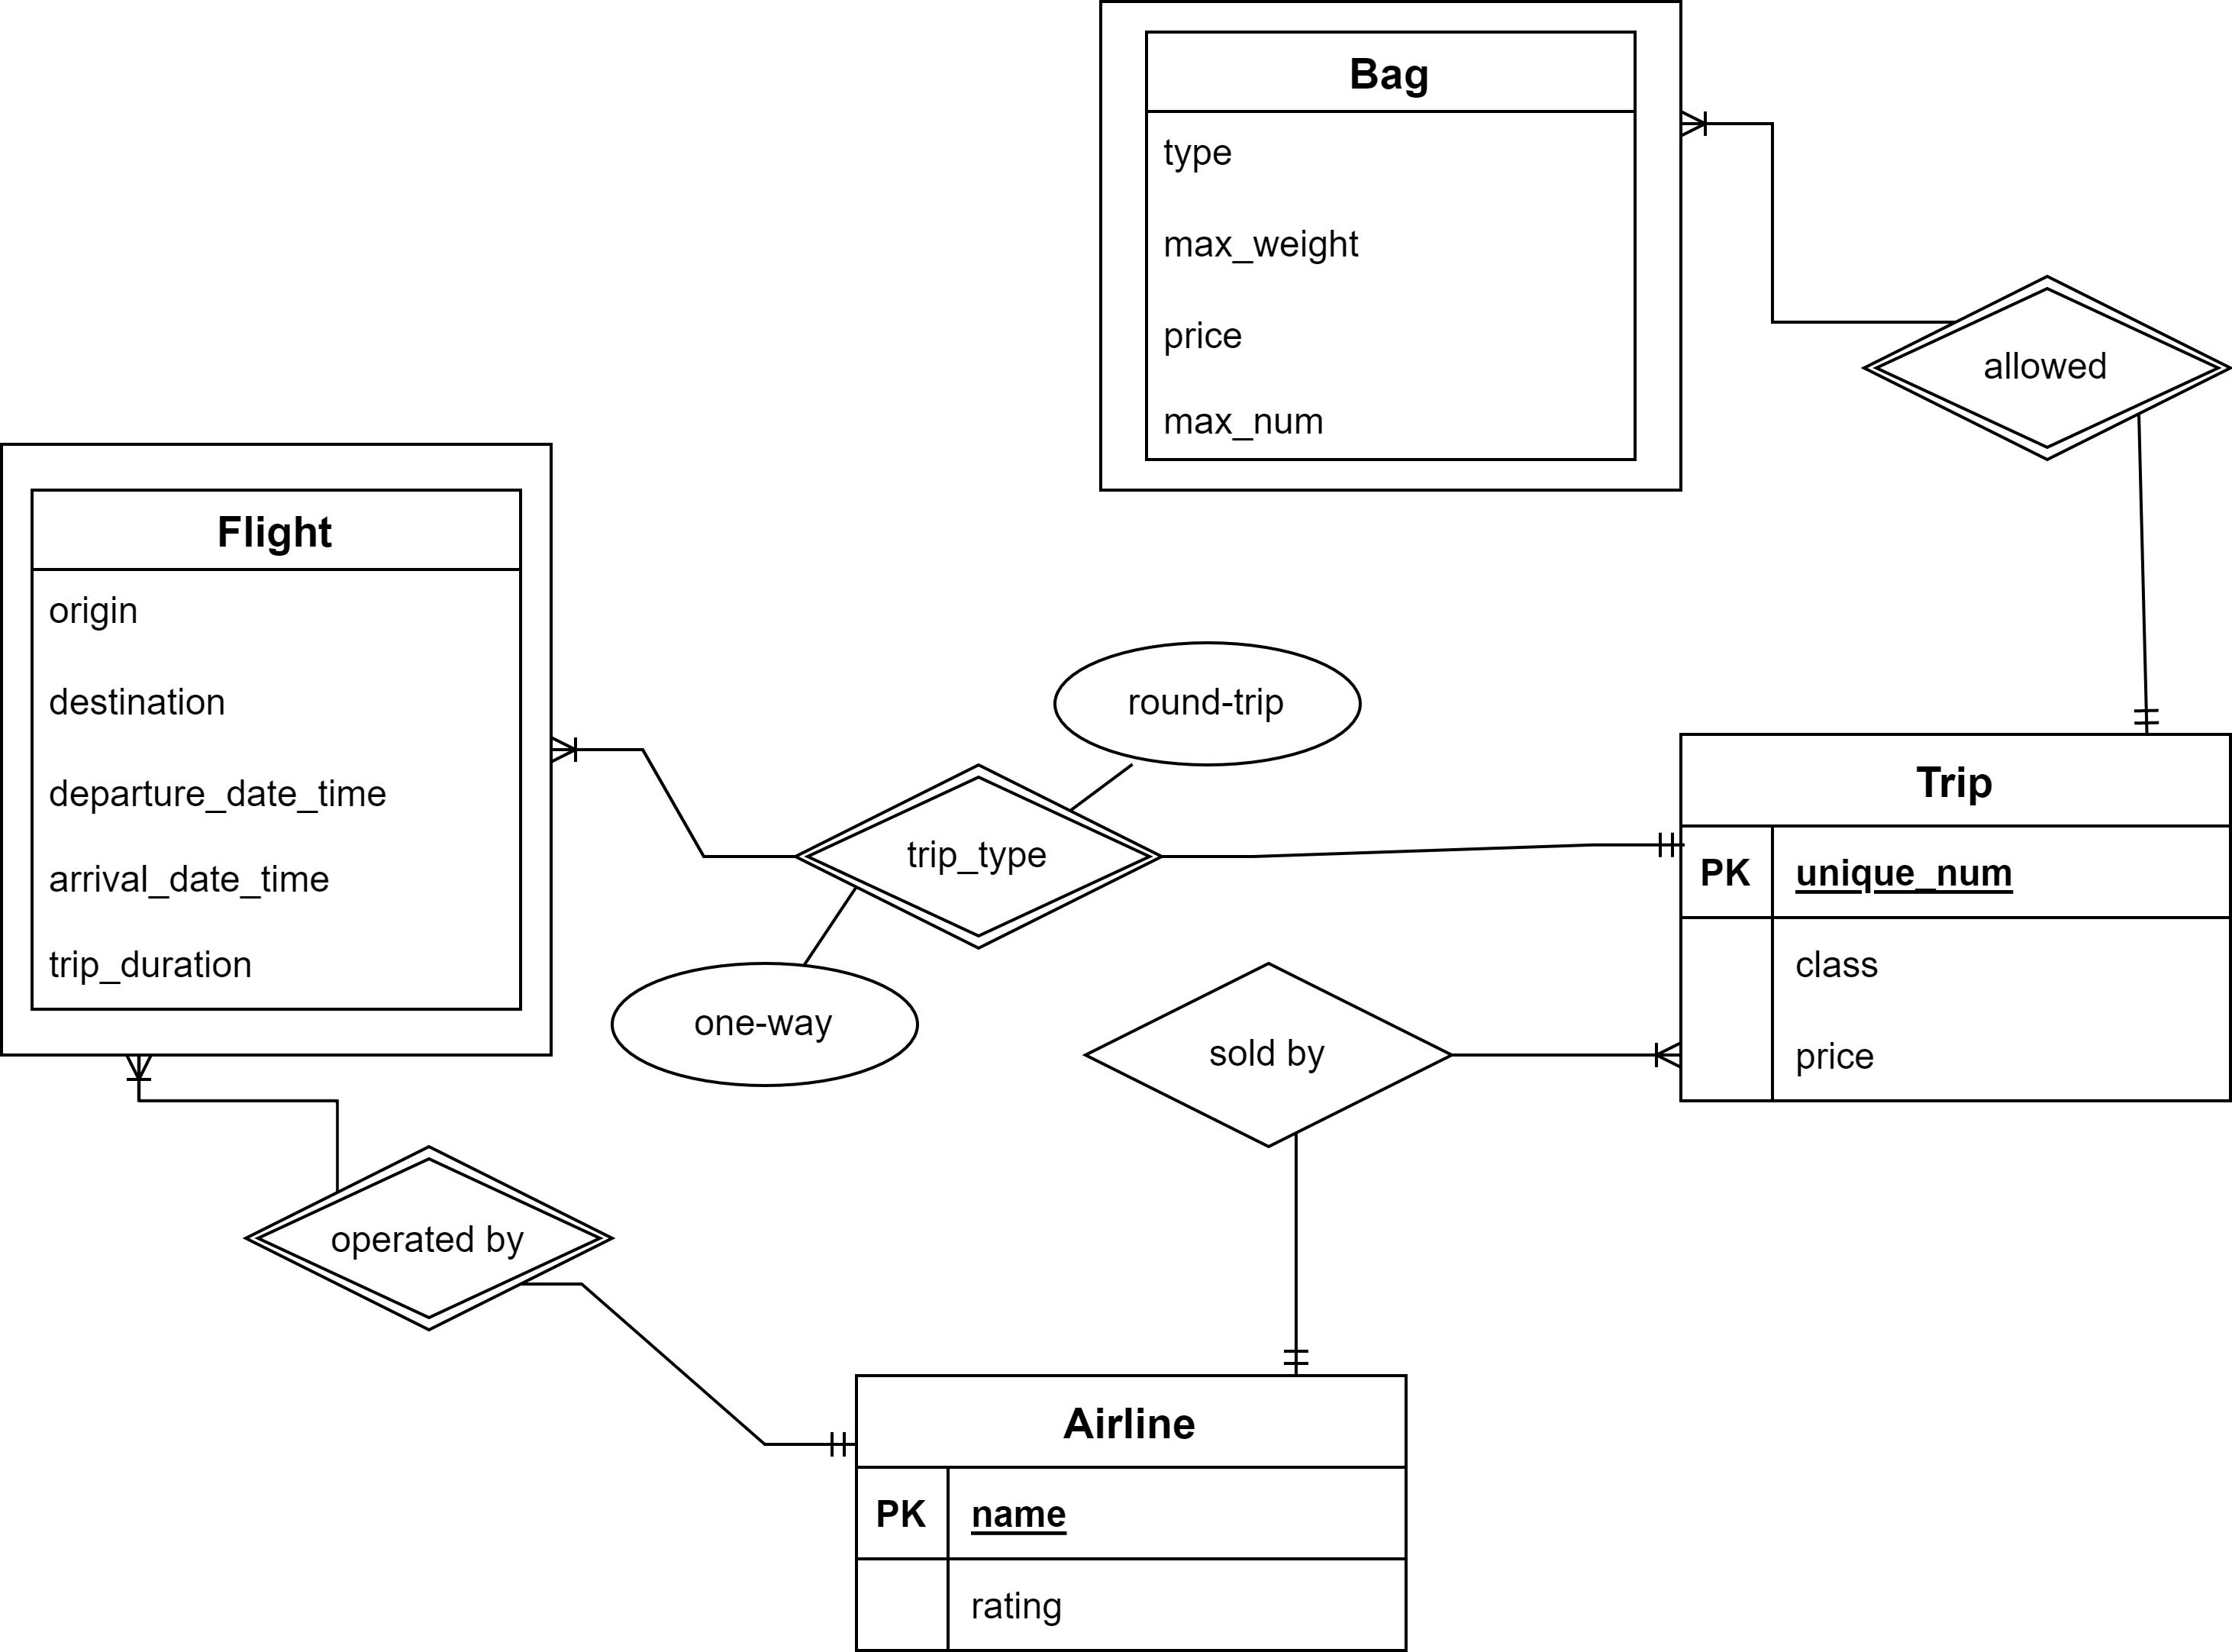attribute: (1051, 635, 1360, 769), (607, 965, 919, 1086)
entity: (1677, 729, 2232, 1105), (850, 1373, 1415, 1652)
relationship: (1091, 970, 1453, 1147)
weakentity: (0, 439, 560, 1060), (1094, 0, 1684, 500), (1854, 272, 2232, 465)
weakrelationship: (238, 1150, 614, 1334), (799, 762, 1160, 953)
